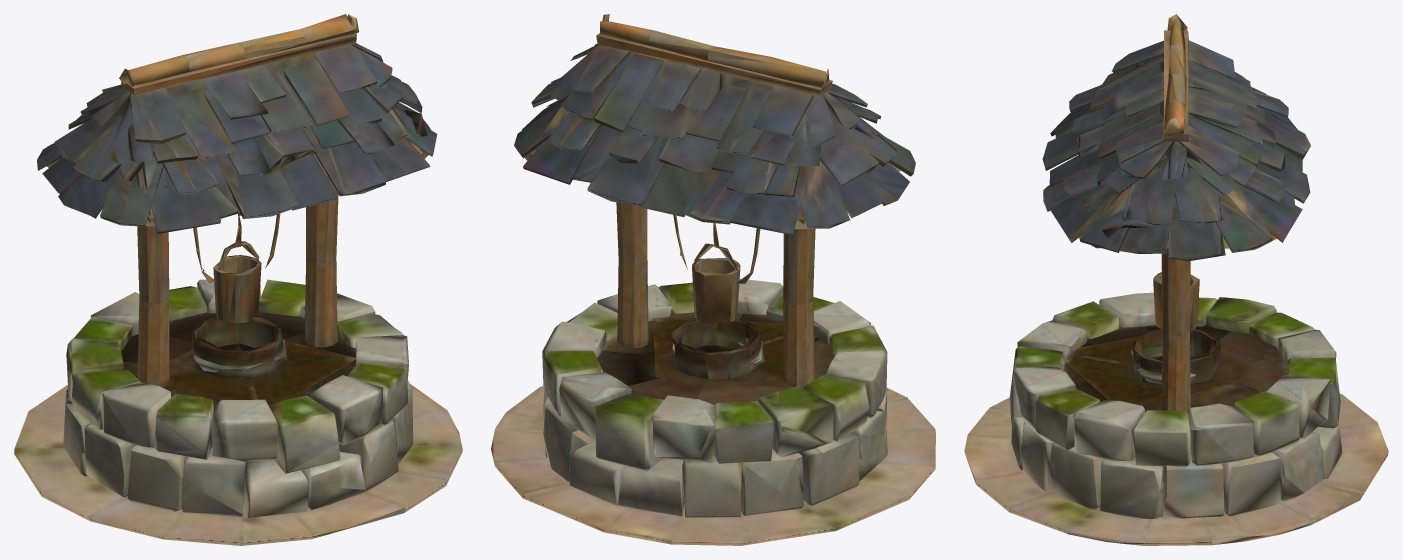
The model's file is well.lod1.glb.
3 views of the same model, side by side, from view 1: azimuth 30°, elevation 25°; view 2: azimuth 150°, elevation 25°; view 3: azimuth 270°, elevation 25° (orthographic). The views are drawn at different scales.
Size of the model in its own units: 2.57 by 2.59 by 2.56.
Materials: 1 (1 with a texture image).
